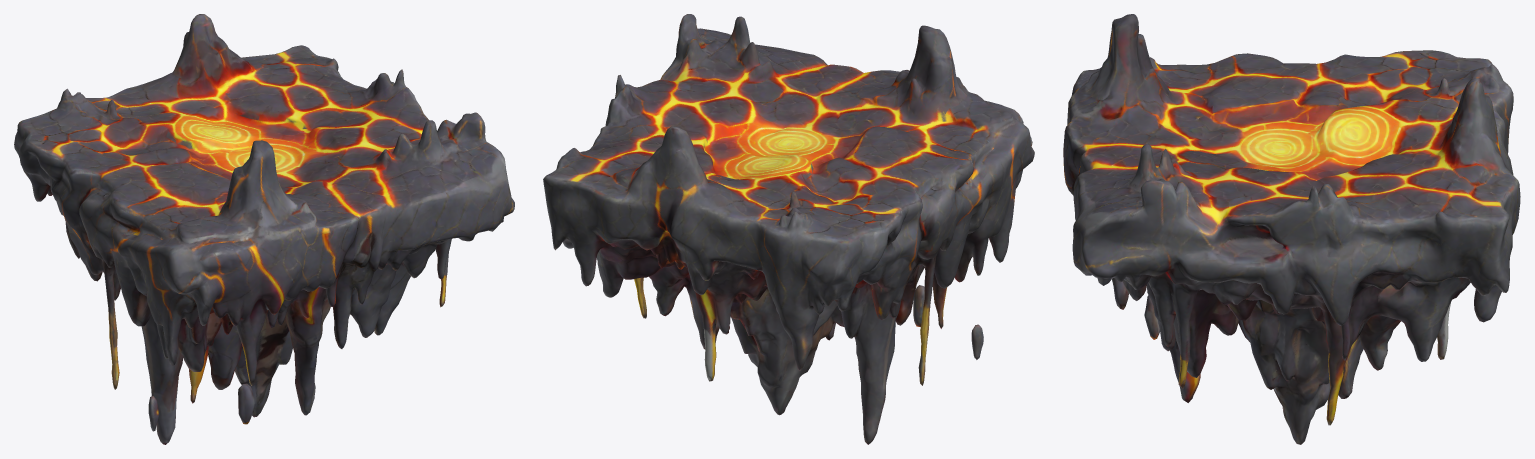
Rendered from Flyland.fbx.
3 renders of one model, left to right at view 1: azimuth 30°, elevation 25°; view 2: azimuth 150°, elevation 25°; view 3: azimuth 270°, elevation 25°, orthographic. The views are drawn at different scales.
Parts seen in each view (by area): view 1: Mesh_0; view 2: Mesh_0; view 3: Mesh_0.
Boxes of the visible parts, box(x1,y1,x2,y2) form: Mesh_0: box(14, 14, 514, 444); Mesh_0: box(543, 14, 1034, 444); Mesh_0: box(1063, 14, 1520, 444).
Size of the model in its own units: 0.0194 by 0.0192 by 0.0199.
